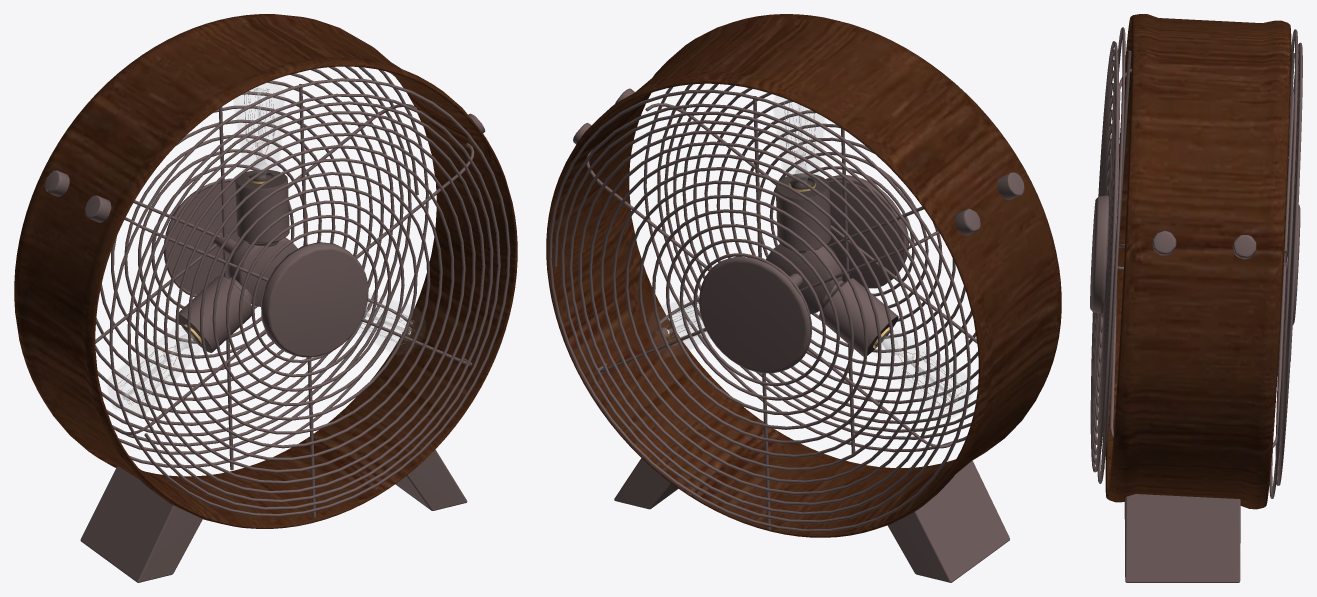
The model's file is abo-B07B51946F.glb.
3 views of the same model, side by side, from view 1: azimuth 30°, elevation 25°; view 2: azimuth 150°, elevation 25°; view 3: azimuth 270°, elevation 25° (orthographic). The views are drawn at different scales.
Bounding box in the file's own units: 0.414 × 0.436 × 0.18.
Materials: 1 (1 with a texture image).
